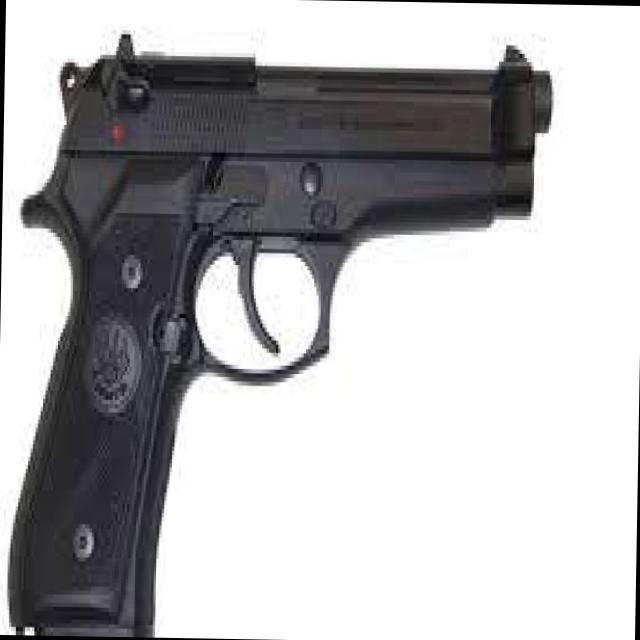Gun: (0, 19, 575, 640)
